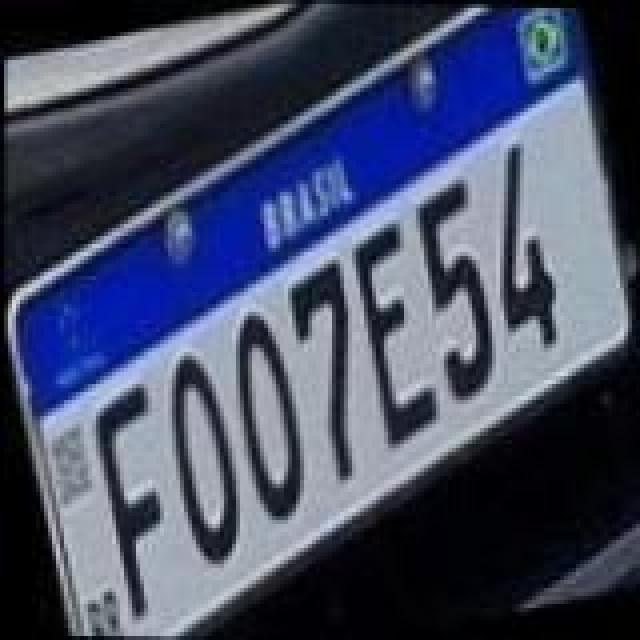4: (456, 134, 576, 358)
5: (396, 174, 524, 410)
7: (268, 254, 396, 502)
E: (334, 210, 458, 454)
F: (72, 370, 204, 622)
O: (206, 302, 326, 534), (144, 342, 264, 570)
